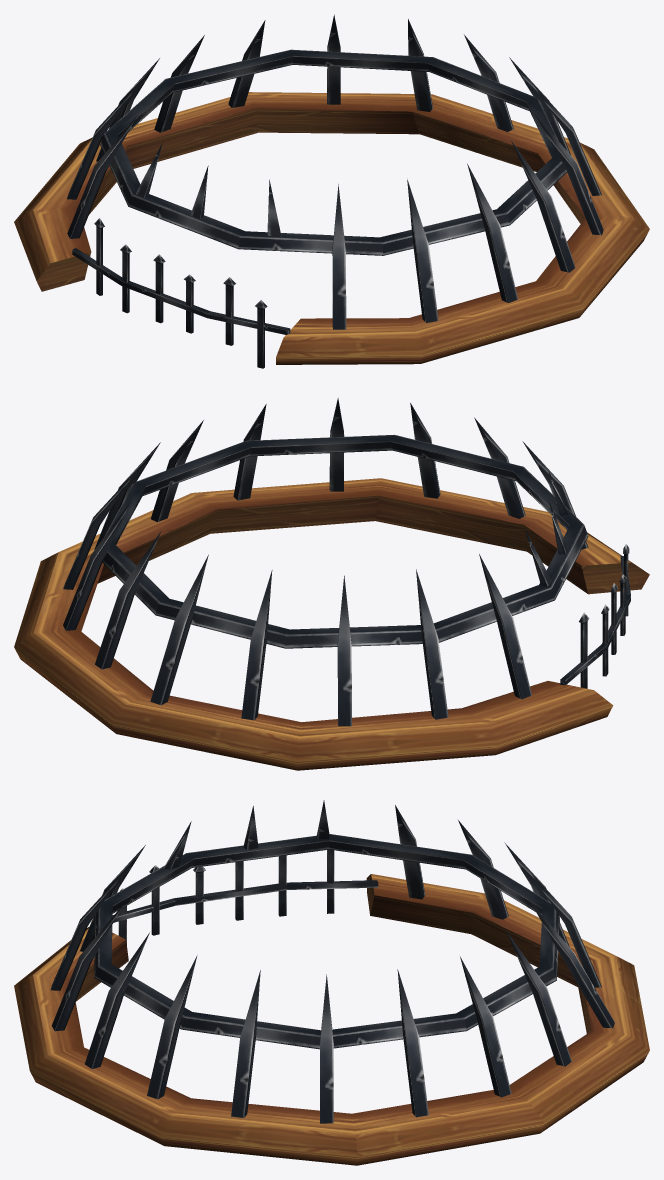
File: jiazu_fangzi_02.fbx
3 renders of one model, top to bottom at view 1: azimuth 30°, elevation 25°; view 2: azimuth 150°, elevation 25°; view 3: azimuth 270°, elevation 25°, orthographic. The views are drawn at different scales.
Parts seen in each view (by area): view 1: jiazu_fangzi_02; view 2: jiazu_fangzi_02; view 3: jiazu_fangzi_02.
Boxes of the visible parts, x1,y1,x2,y2 form: jiazu_fangzi_02: [14, 14, 649, 368]; jiazu_fangzi_02: [14, 398, 649, 770]; jiazu_fangzi_02: [14, 800, 649, 1165].
Size of the model in its own units: 651 by 173 by 631.
